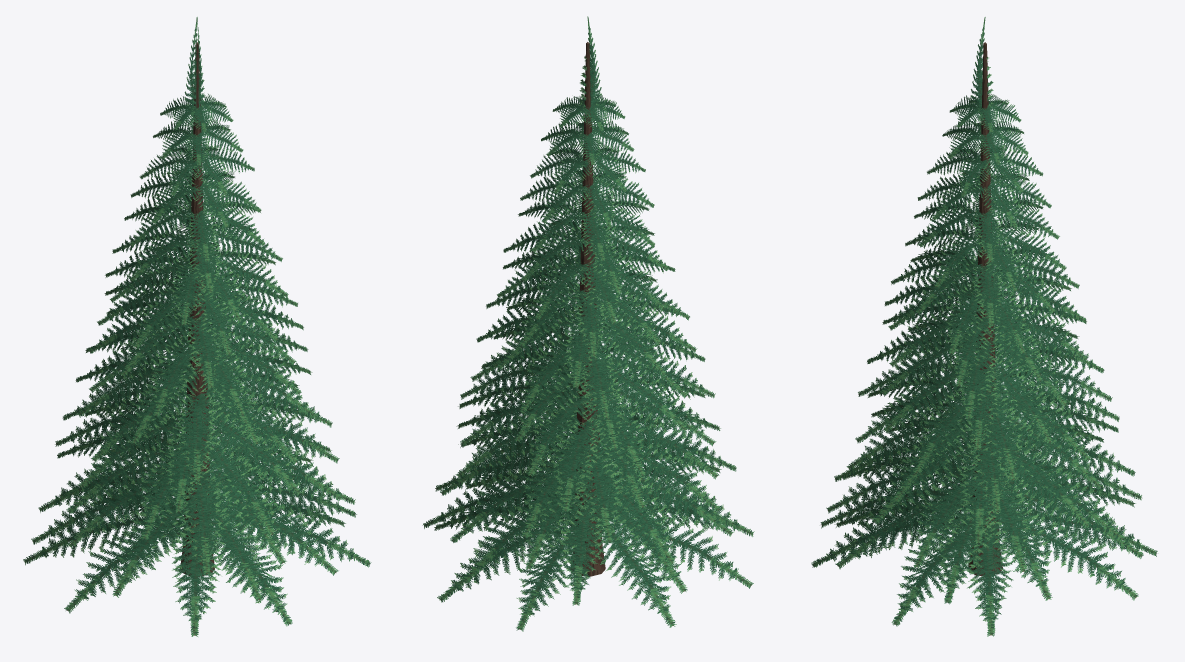
The model's file is tree-spruce-large.gltf.
3 renders of one model, left to right at view 1: azimuth 30°, elevation 25°; view 2: azimuth 150°, elevation 25°; view 3: azimuth 270°, elevation 25°, orthographic.
Visible parts, largest first — view 1: tree_spruce_large; view 2: tree_spruce_large; view 3: tree_spruce_large.
Part boxes in pixels (<box>): tree_spruce_large: <box>23,17,371,636</box>; tree_spruce_large: <box>422,16,754,631</box>; tree_spruce_large: <box>811,17,1157,636</box>.
Size of the model in its own units: 6.19 by 10.37 by 6.19.
Materials: 2 (2 with a texture image).
